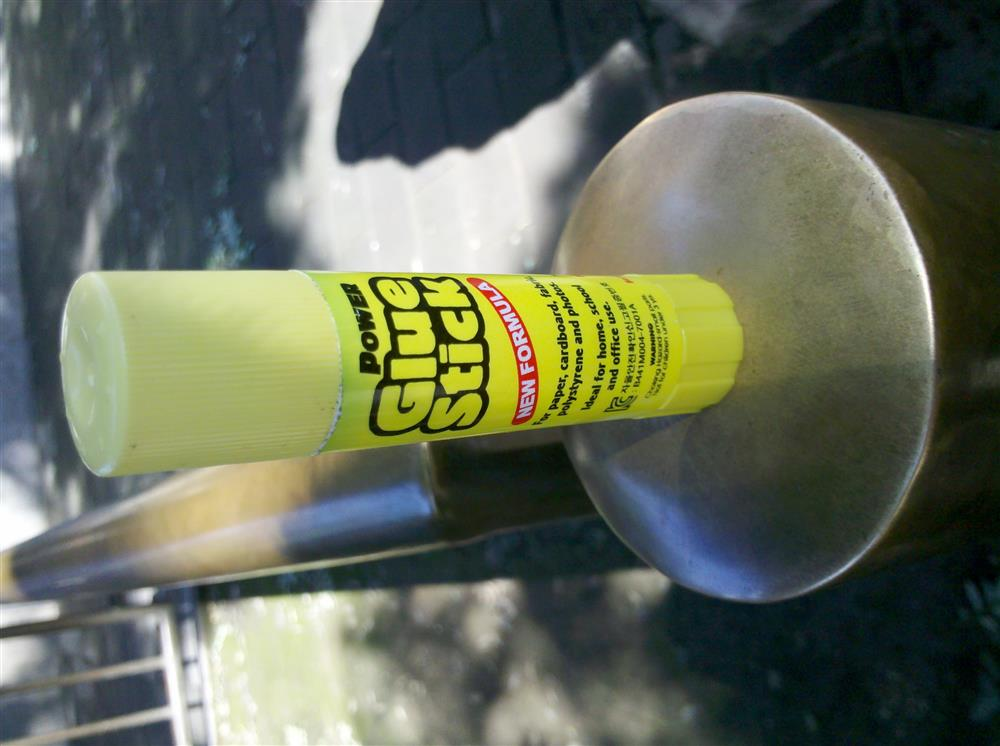Glue_stick: (62, 267, 744, 477)
